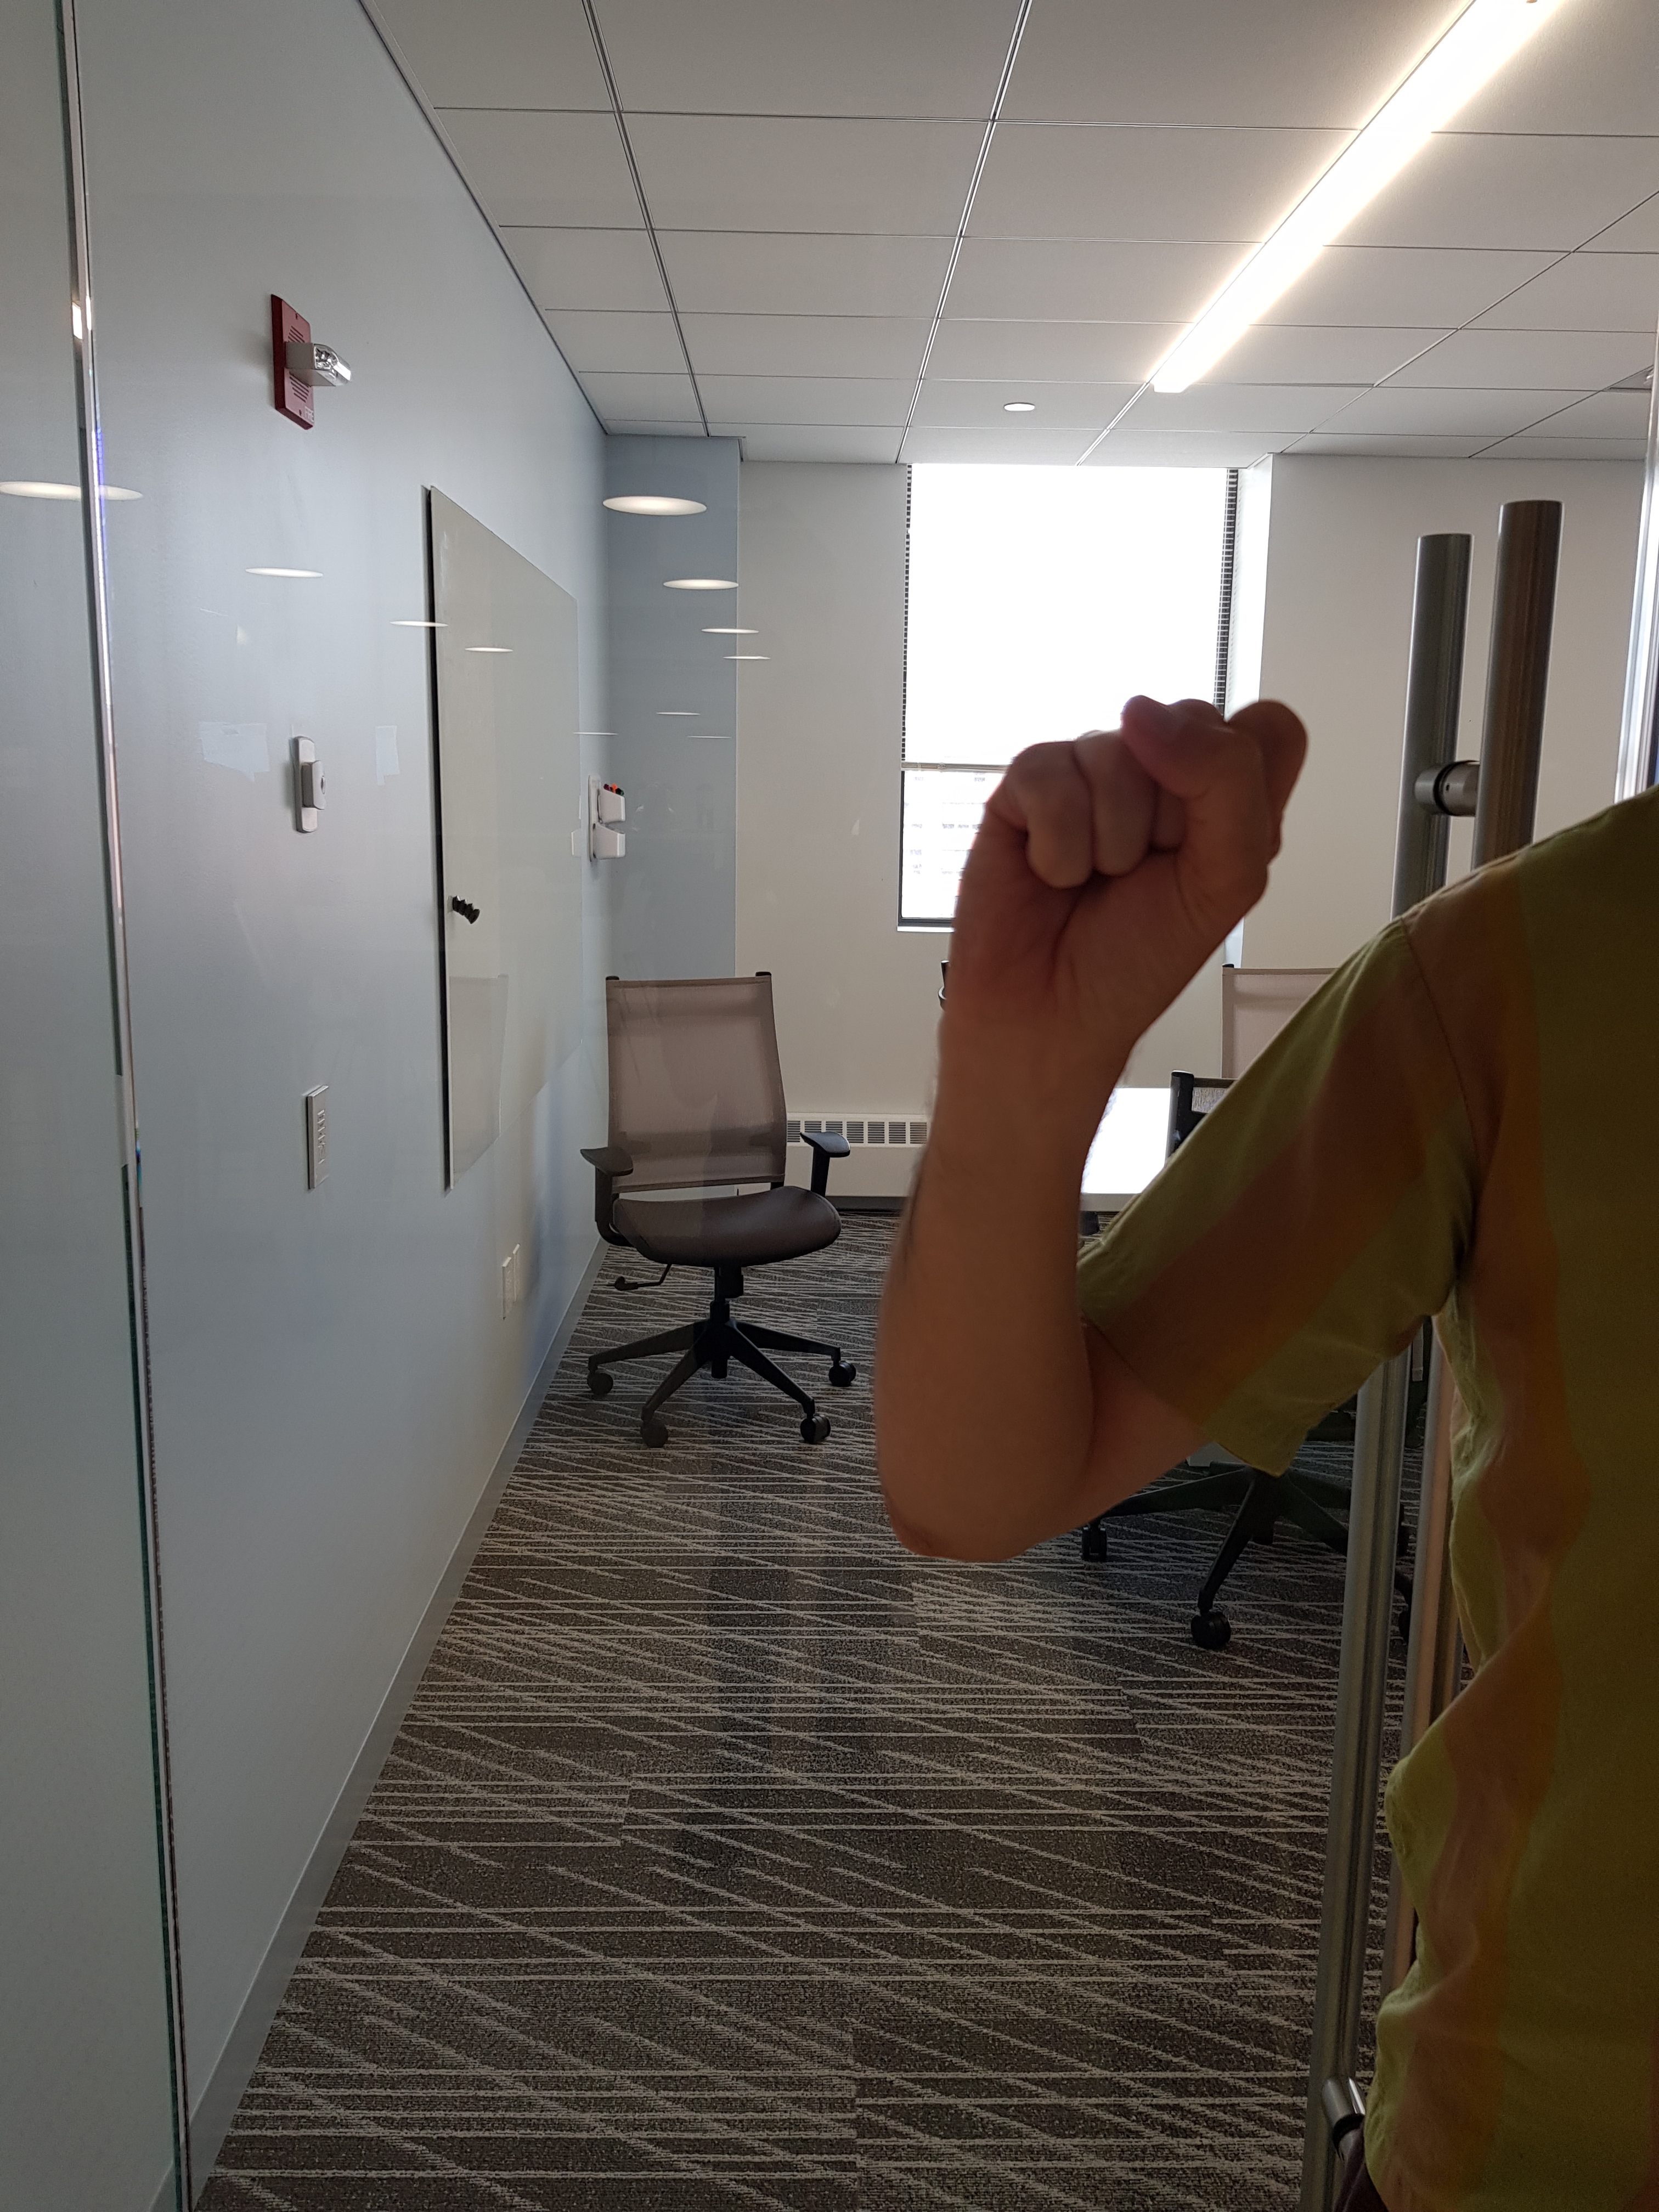s: (911, 676, 1328, 1075)
